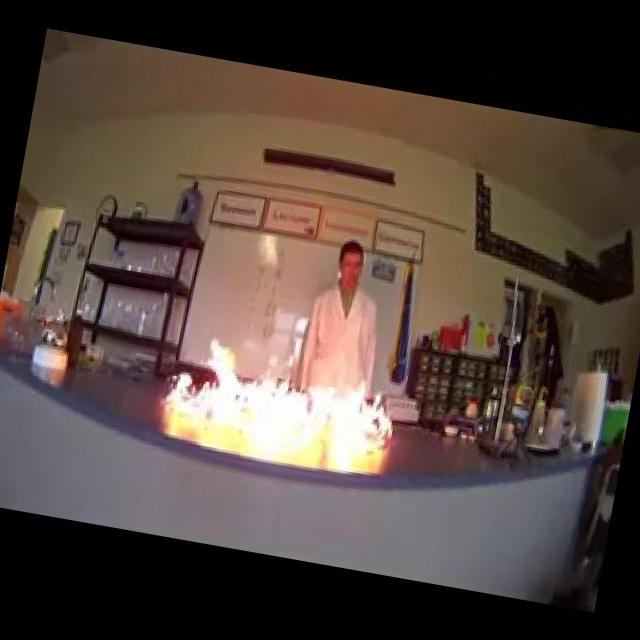Fire: (153, 322, 409, 466)
